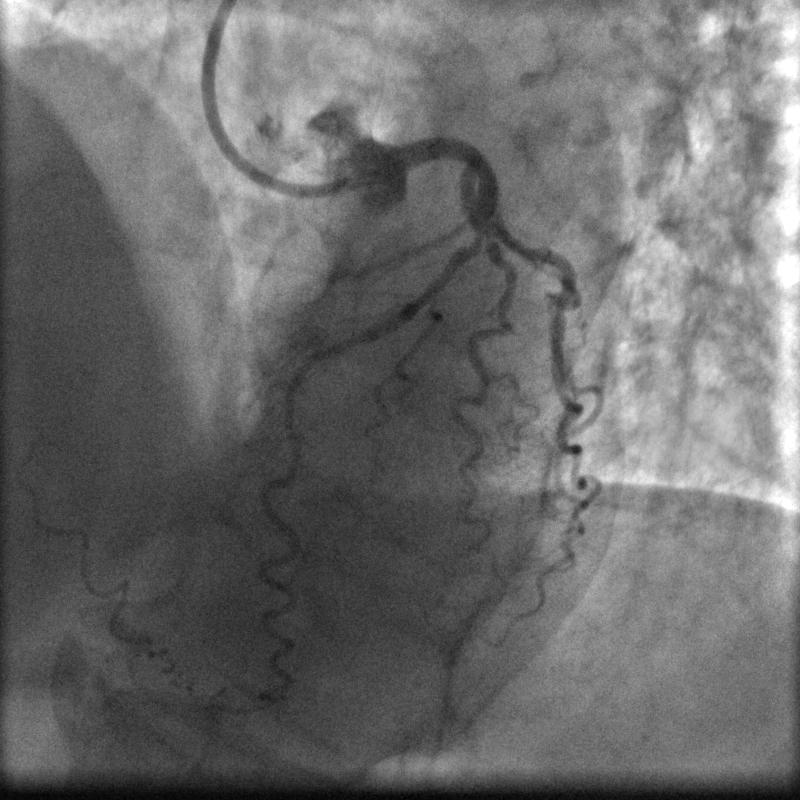Stenosis: (470, 224, 497, 248)
